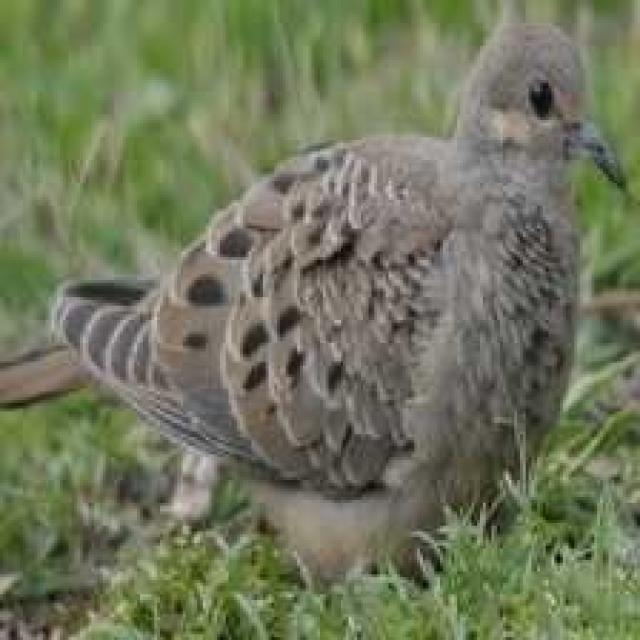dove: (4, 15, 636, 594)
